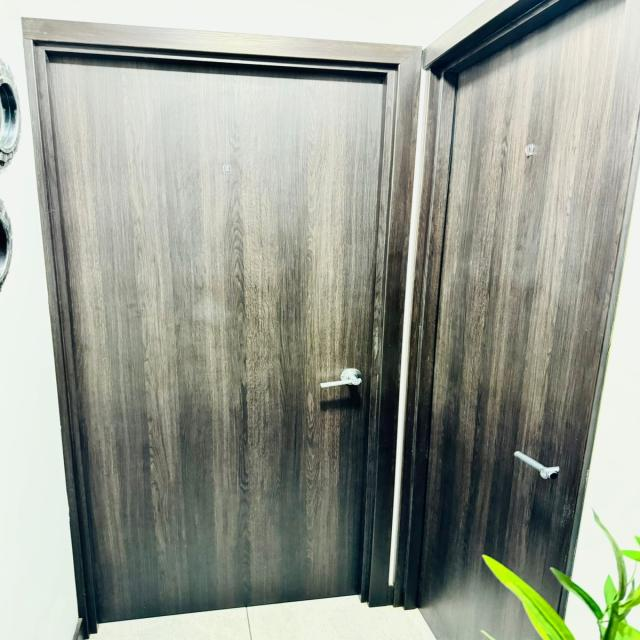ClosedDoor: (28, 31, 394, 634), (408, 0, 640, 640)
